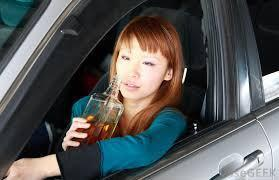Drunk: (118, 40, 158, 100)
